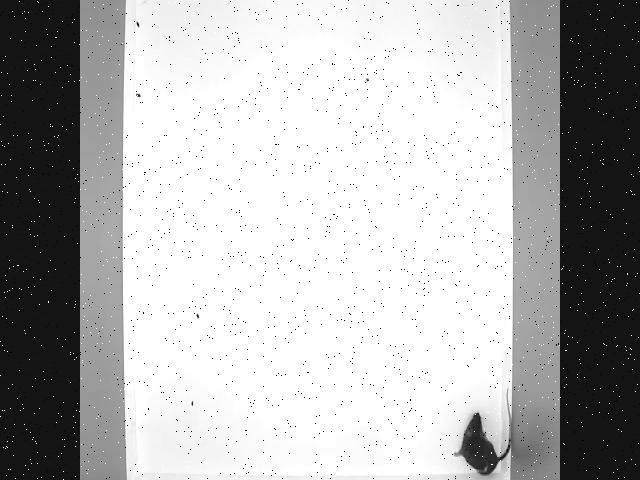Tikus: (452, 388, 512, 476)
